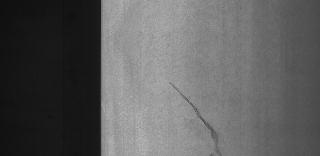water spot: (165, 78, 227, 156)
